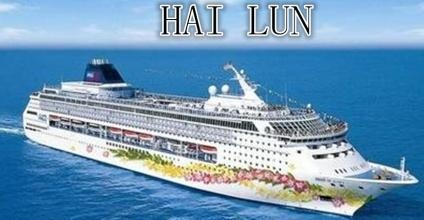youlun: (23, 55, 414, 216)
